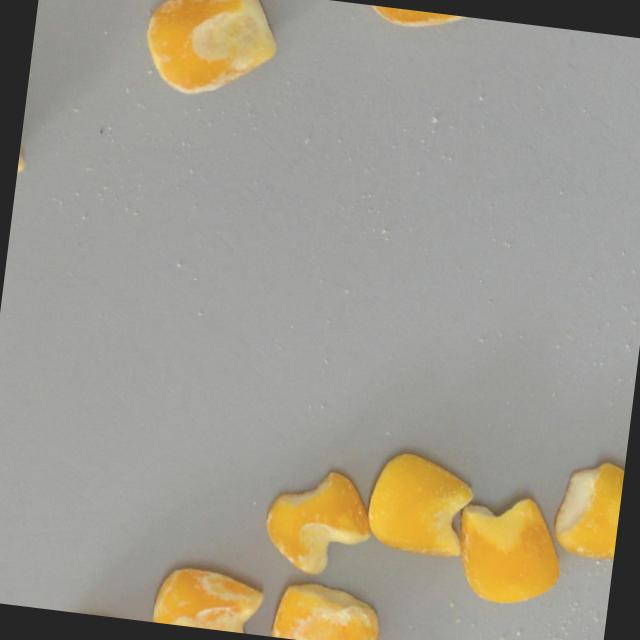pelicula: (139, 0, 284, 106), (258, 462, 376, 581), (453, 488, 569, 607), (361, 446, 477, 562), (150, 564, 265, 635), (548, 454, 625, 560), (271, 578, 385, 640), (348, 1, 476, 36)
